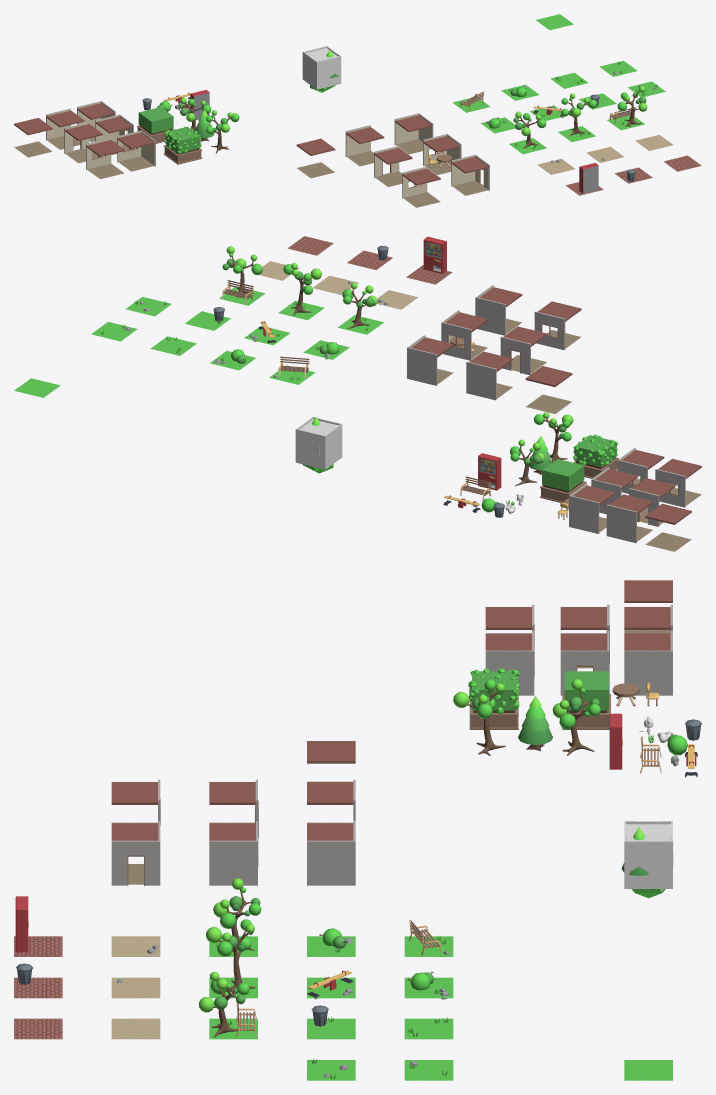
Rendered from park_12.fbx.
The picture shows the model from 3 angles, top to bottom: view 1: azimuth 30°, elevation 25°; view 2: azimuth 150°, elevation 25°; view 3: azimuth 270°, elevation 25°; orthographic projection. The views are drawn at different scales.
Parts seen in each view (by area): view 1: wall, wall_2_door.001, wall_2_window, wall_2.001, wall_1_window.001, wall_1_window, wall_1.002, wall_2_window.001, wall_1_door.001, wall_1_door, park_wall, wall_1 (+21 smaller); view 2: wall, wall_2.001, wall_1, wall_1.002, wall_2, wall_2_door.001, park_wall, wall_1_door.001, wall_1_window.001, wall_2_window.001, wall_1_window, wall_1.003 (+16 smaller); view 3: wall_2.001, wall_2_window.001, wall_2_door.001, wall, wall_2, wall_2_window, wall_2_door, park_wall, wall_1_door.001, wall_1.001, wall_1_window.001, wall_1.002 (+30 smaller).
Part boxes in pixels (x1=…): wall: x1=302, y1=46, x2=341, y2=87; wall_2_door.001: x1=451, y1=154, x2=489, y2=195; wall_2_window: x1=117, y1=130, x2=155, y2=171; wall_2.001: x1=394, y1=113, x2=433, y2=154; wall_1_window.001: x1=402, y1=166, x2=440, y2=207; wall_1_window: x1=86, y1=138, x2=124, y2=179; wall_1.002: x1=345, y1=125, x2=384, y2=166; wall_2_window.001: x1=423, y1=134, x2=461, y2=174; wall_1_door.001: x1=374, y1=146, x2=412, y2=186; wall_1_door: x1=64, y1=122, x2=102, y2=163; park_wall: x1=137, y1=107, x2=174, y2=143; wall_1: x1=46, y1=108, x2=84, y2=149; wall: x1=295, y1=416, x2=342, y2=466; wall_2.001: x1=407, y1=335, x2=453, y2=385; wall_1: x1=606, y1=494, x2=653, y2=542; wall_1.002: x1=466, y1=351, x2=512, y2=400; wall_2: x1=569, y1=483, x2=615, y2=533; wall_2_door.001: x1=475, y1=285, x2=522, y2=335; park_wall: x1=540, y1=459, x2=586, y2=502; wall_1_door.001: x1=500, y1=326, x2=547, y2=375; wall_1_window.001: x1=534, y1=301, x2=581, y2=350; wall_2_window.001: x1=441, y1=310, x2=487, y2=360; wall_1_window: x1=655, y1=458, x2=701, y2=507; wall_1.003: x1=525, y1=366, x2=572, y2=413; wall_2.001: x1=307, y1=821, x2=355, y2=885; wall_2_window.001: x1=209, y1=821, x2=258, y2=885; wall_2_door.001: x1=111, y1=821, x2=160, y2=886; wall: x1=624, y1=821, x2=672, y2=885; wall_2: x1=624, y1=631, x2=672, y2=695; wall_2_window: x1=485, y1=631, x2=534, y2=695; wall_2_door: x1=560, y1=631, x2=609, y2=695; park_wall: x1=562, y1=671, x2=610, y2=729; wall_1_door.001: x1=209, y1=779, x2=258, y2=838; wall_1.001: x1=624, y1=580, x2=672, y2=633; wall_1_window.001: x1=111, y1=779, x2=160, y2=825; wall_1.002: x1=307, y1=779, x2=355, y2=823.
Size of the model in its own units: 44.57 by 3.97 by 28.19.
Materials: 5 (3 with a texture image).
